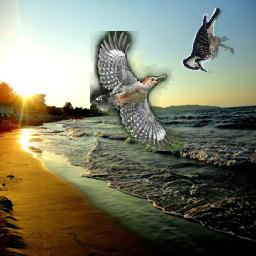Woodpecker: (91, 31, 184, 151), (182, 9, 235, 74)
